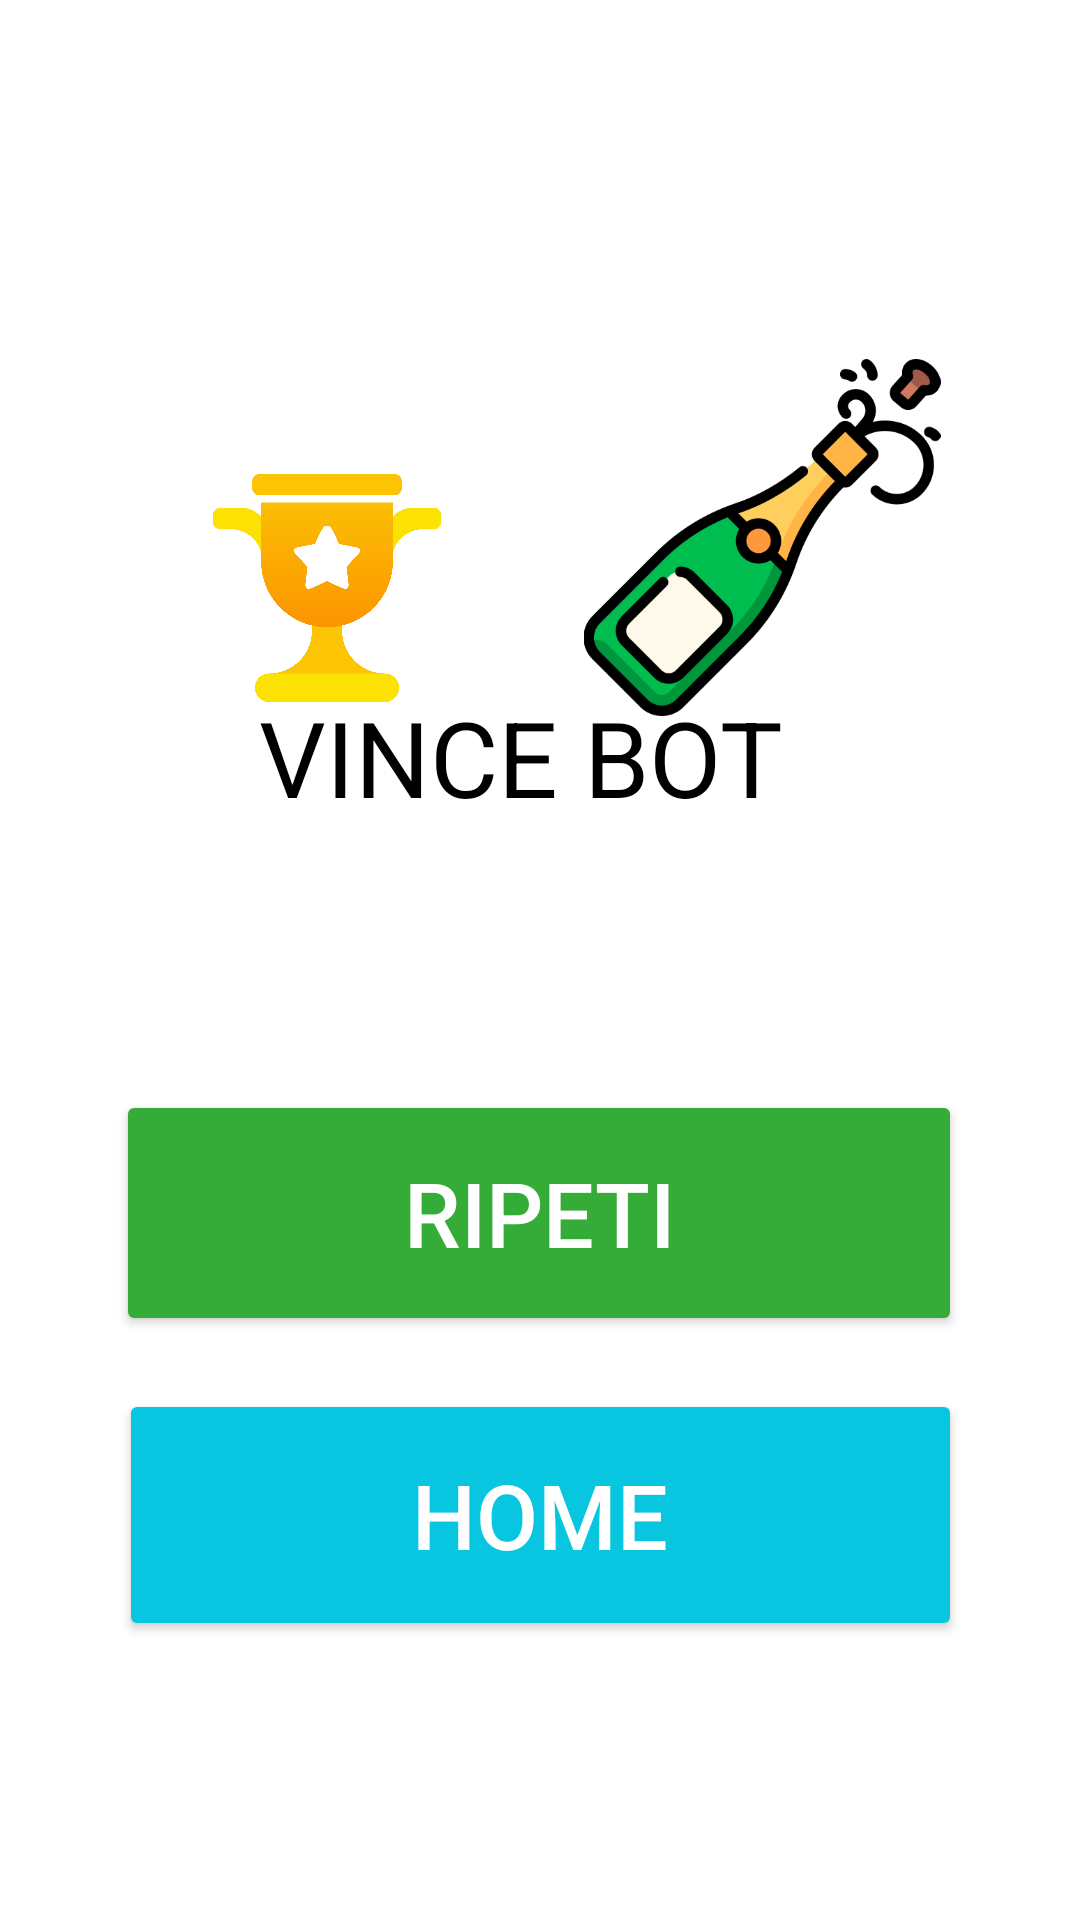

Named icons in this screenshot (1080 × 1920) and their bounding boxes, (x1, y1, x2, y2):
champagne: (584, 359, 941, 716)
cup zjifyt: (213, 474, 441, 702)
